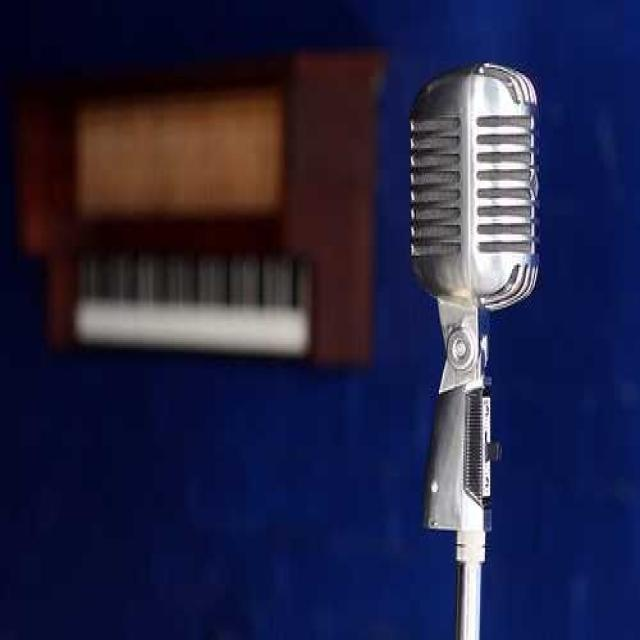microphone: (408, 63, 546, 636)
